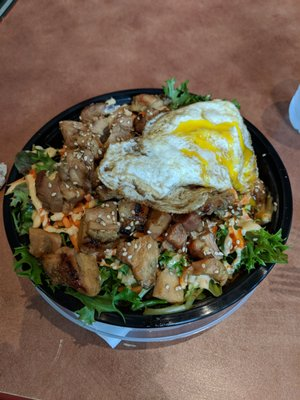curry: (6, 183, 36, 240)
sushi: (2, 103, 289, 348)
